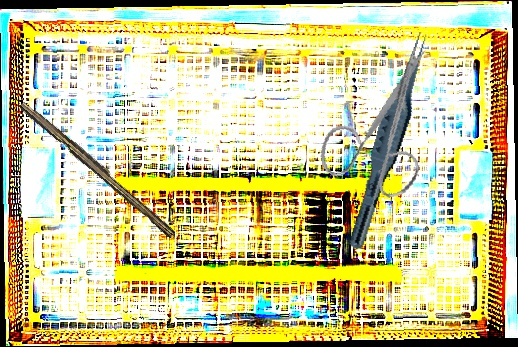Iris Scissors: (299, 42, 459, 212)
Scalpel Handle: (16, 98, 180, 239)
Tissue Forceps: (346, 27, 434, 254)
